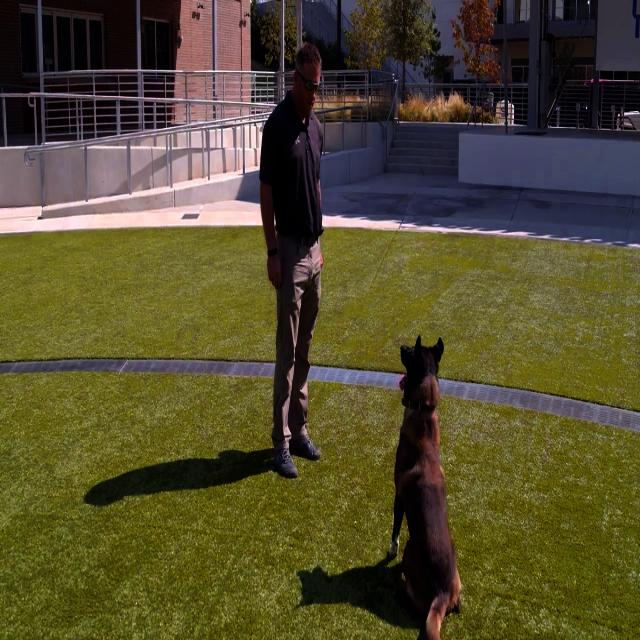Unleashed_Dog: (293, 238, 461, 640)
